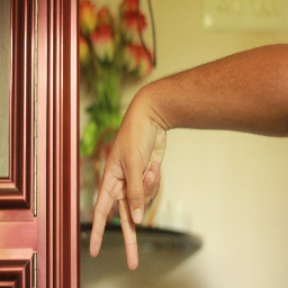Y: (88, 100, 163, 270)
